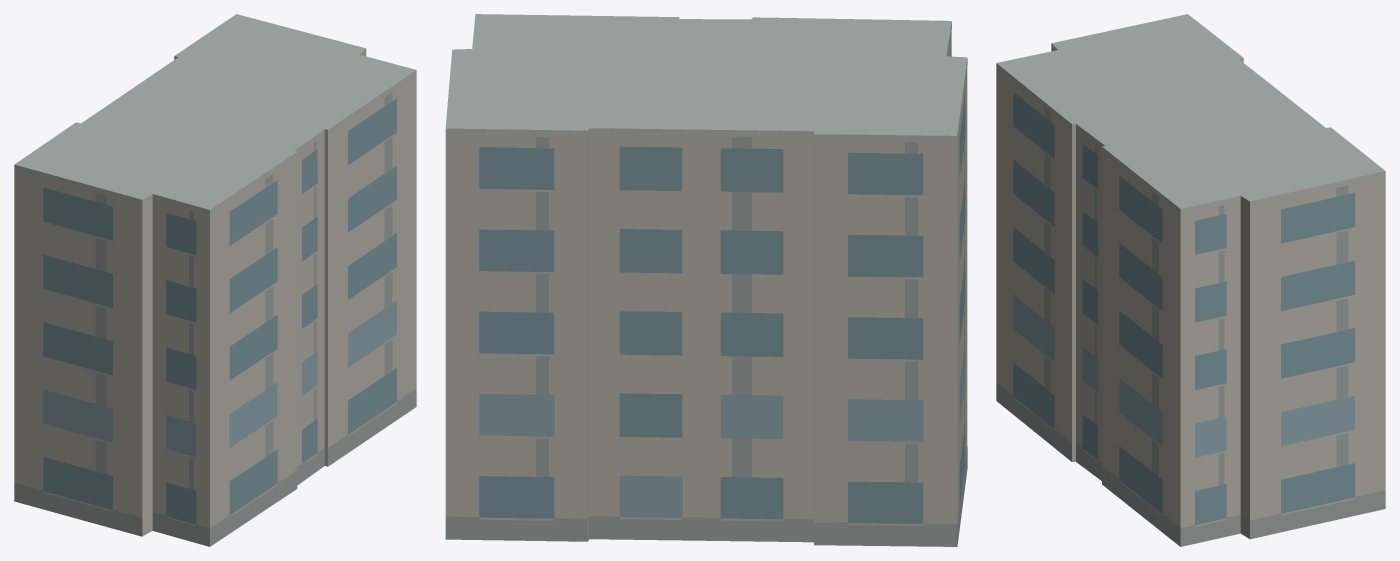
Rendered from survey-upis-32710327.glb.
3 renders of one model, left to right at view 1: azimuth 30°, elevation 25°; view 2: azimuth 150°, elevation 25°; view 3: azimuth 270°, elevation 25°, orthographic. The views are drawn at different scales.
Parts seen in each view (by area): view 1: survey-upis-32710327.tmp; view 2: survey-upis-32710327.tmp; view 3: survey-upis-32710327.tmp.
Boxes of the visible parts, x1,y1,x2,y2 form: survey-upis-32710327.tmp: (14, 14, 416, 546); survey-upis-32710327.tmp: (445, 14, 967, 546); survey-upis-32710327.tmp: (996, 14, 1385, 546).
Size of the model in its own units: 17.41 by 14.05 by 14.69.
